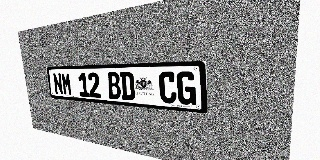1: (77, 72, 90, 97)
2: (88, 72, 101, 98)
B: (107, 72, 121, 100)
C: (158, 71, 177, 104)
D: (120, 72, 135, 101)
G: (176, 71, 196, 105)
M: (61, 73, 72, 96)
N: (52, 73, 63, 95)
